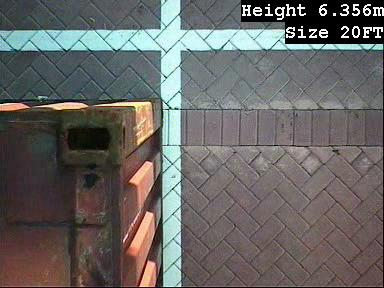groundmarker_2: (47, 67, 148, 130)
